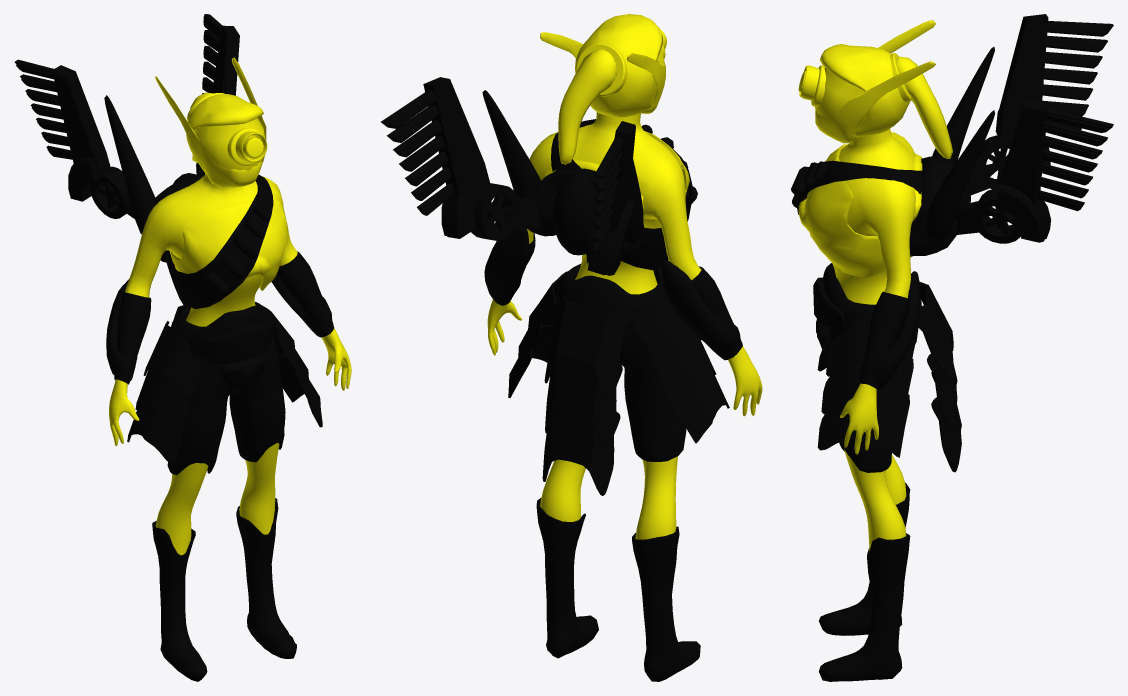
The model's file is icarus.fbx.
3 views of the same model, side by side, from view 1: azimuth 30°, elevation 25°; view 2: azimuth 150°, elevation 25°; view 3: azimuth 270°, elevation 25° (orthographic). The views are drawn at different scales.
Parts seen in each view (by area): view 1: cuerpo_low, alas_low, pies_low, pantalones_low, brazaletedeco1_low, pechera_low, bandana_low, cabeza_low, pollera1_low, pollera3_low, antenas_low, pollera2_low (+6 smaller); view 2: alas_low, cuerpo_low, pies_low, brazaletedeco1_low, pantalones_low, polleratrasera1_low, cabeza_low, polleratrasera2_low, polleratrasera3_low, pollera1_low, pelo_low, cinturon_low (+9 smaller); view 3: alas_low, cuerpo_low, pies_low, pechera_low, cabeza_low, antenas_low, brazaletedeco1_low, cabezadeco_low, pollera2_low, pollera3_low, jetpack_low, pollera1_low (+9 smaller).
Part boxes in pixels (x1,y1,x2,y2): cuerpo_low: (109, 173, 351, 555); alas_low: (14, 14, 239, 218); pies_low: (152, 498, 296, 681); pantalones_low: (167, 315, 285, 474); brazaletedeco1_low: (106, 251, 334, 384); pechera_low: (169, 200, 287, 299); bandana_low: (165, 175, 273, 308); cabeza_low: (186, 94, 265, 174); pollera1_low: (143, 305, 298, 398); pollera3_low: (127, 355, 322, 463); antenas_low: (104, 66, 234, 234); pollera2_low: (135, 329, 310, 431); alas_low: (381, 77, 635, 275); cuerpo_low: (487, 112, 762, 539); pies_low: (536, 498, 700, 681); brazaletedeco1_low: (484, 229, 742, 360); pantalones_low: (558, 271, 686, 461); polleratrasera1_low: (544, 296, 630, 397); cabeza_low: (575, 14, 665, 117); polleratrasera2_low: (545, 358, 622, 447); polleratrasera3_low: (542, 411, 620, 495); pollera1_low: (527, 271, 701, 374); pelo_low: (558, 49, 616, 164); cinturon_low: (557, 264, 667, 328); alas_low: (955, 14, 1113, 243); cuerpo_low: (832, 128, 915, 550); pies_low: (819, 482, 910, 681); pechera_low: (798, 144, 922, 278); cabeza_low: (815, 44, 910, 137); antenas_low: (926, 47, 994, 242); brazaletedeco1_low: (859, 271, 920, 389); cabezadeco_low: (815, 20, 935, 143); pollera2_low: (821, 358, 913, 421); pollera3_low: (817, 350, 909, 457); jetpack_low: (909, 156, 957, 255); pollera1_low: (826, 319, 918, 383).
Bounding box in the file's own units: 2.74 × 6.27 × 2.98.
